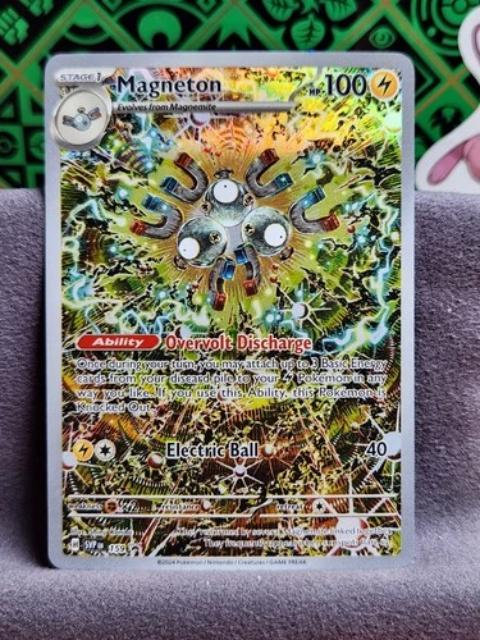Card: (42, 47, 421, 572)
Name: (109, 69, 224, 104)
